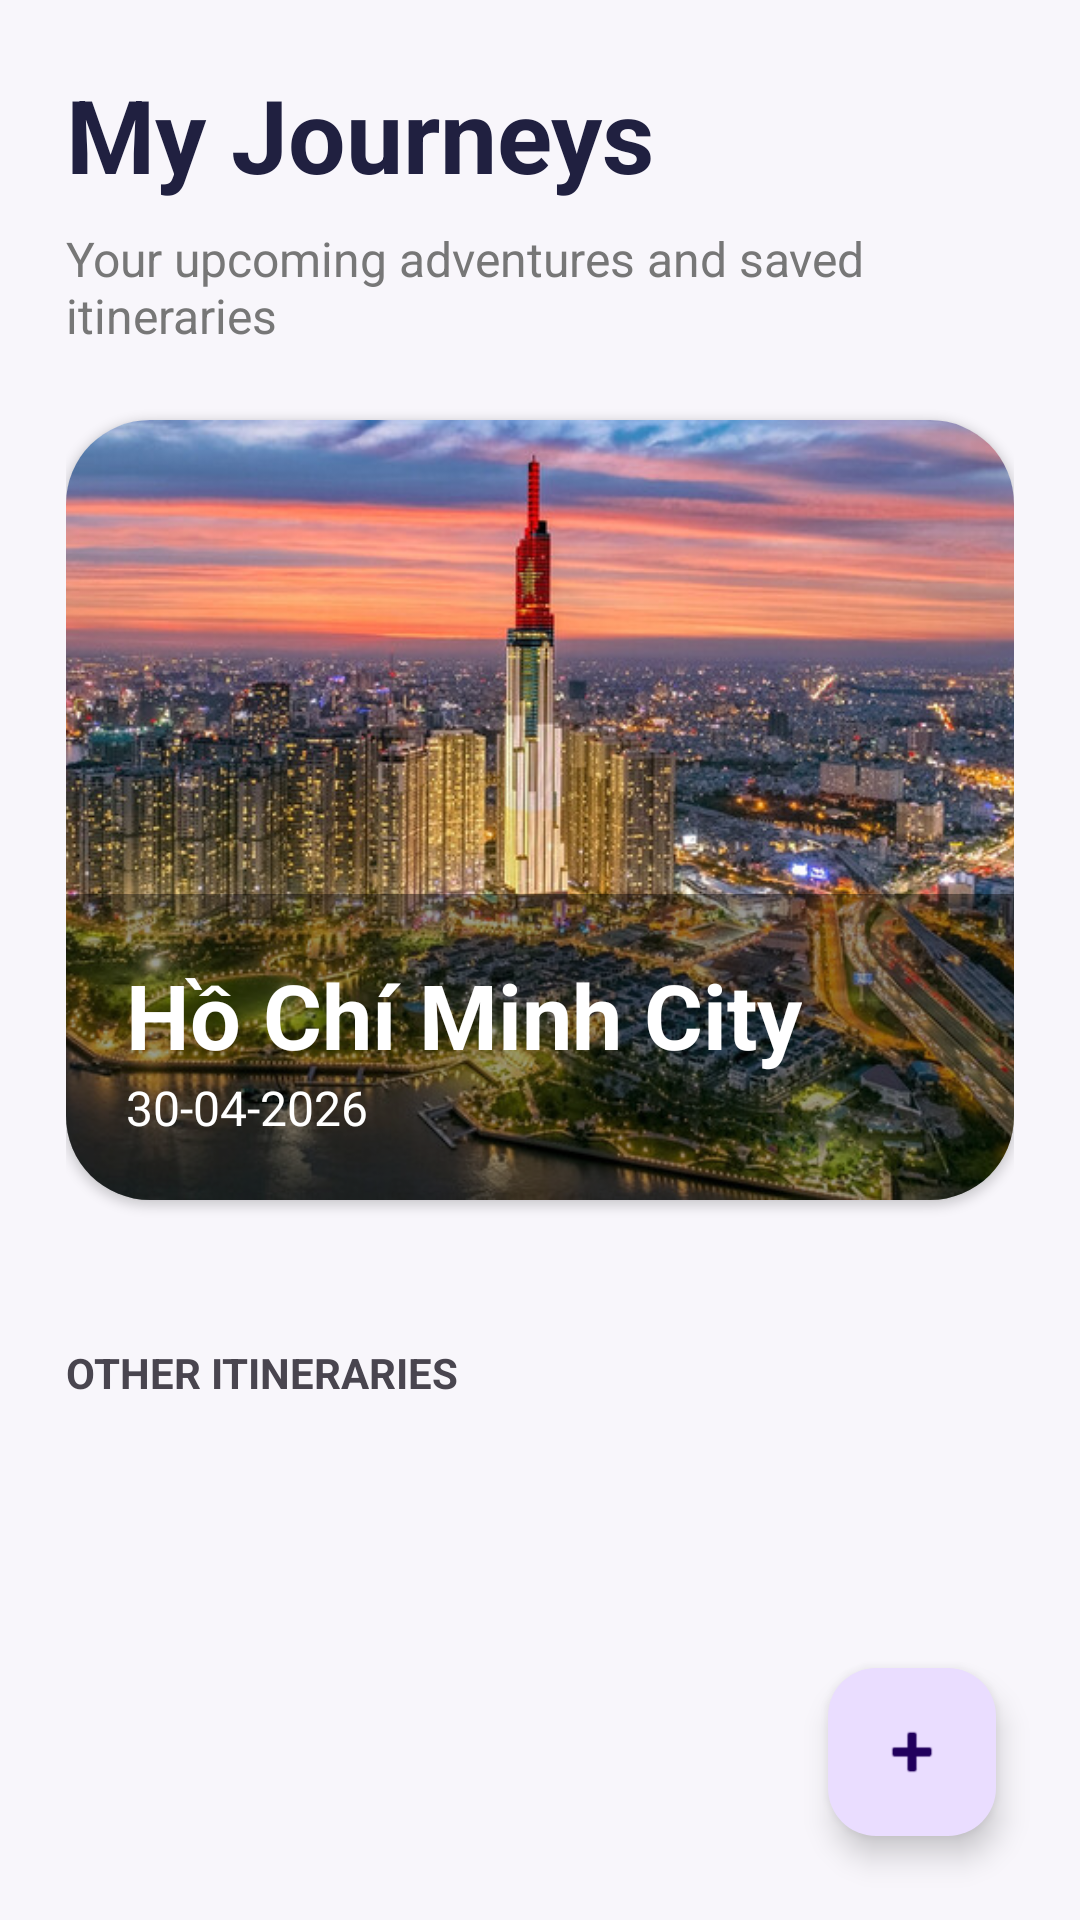

Locate icon controls on the screen. Image size 1080 x 1920, boxes as (x1, y1, x2, y2).
Thêm chuyến đi: (828, 1668, 996, 1836)
